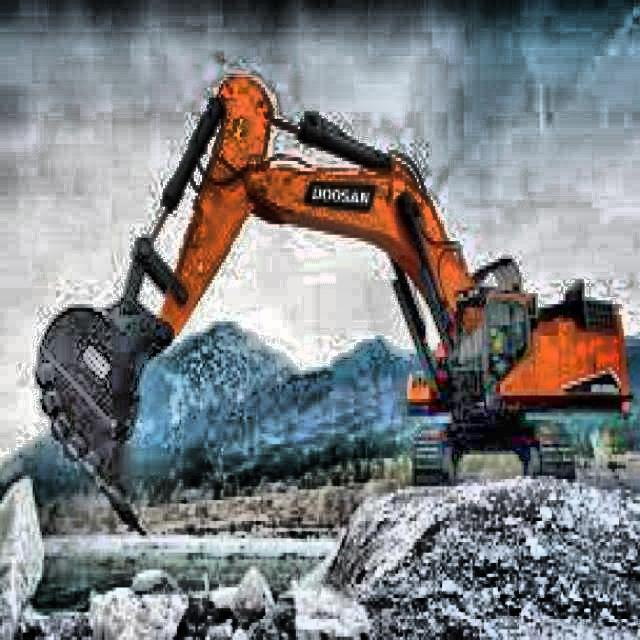bull_dozer/loader/grader: (32, 70, 634, 540)
person: (489, 320, 506, 352)
